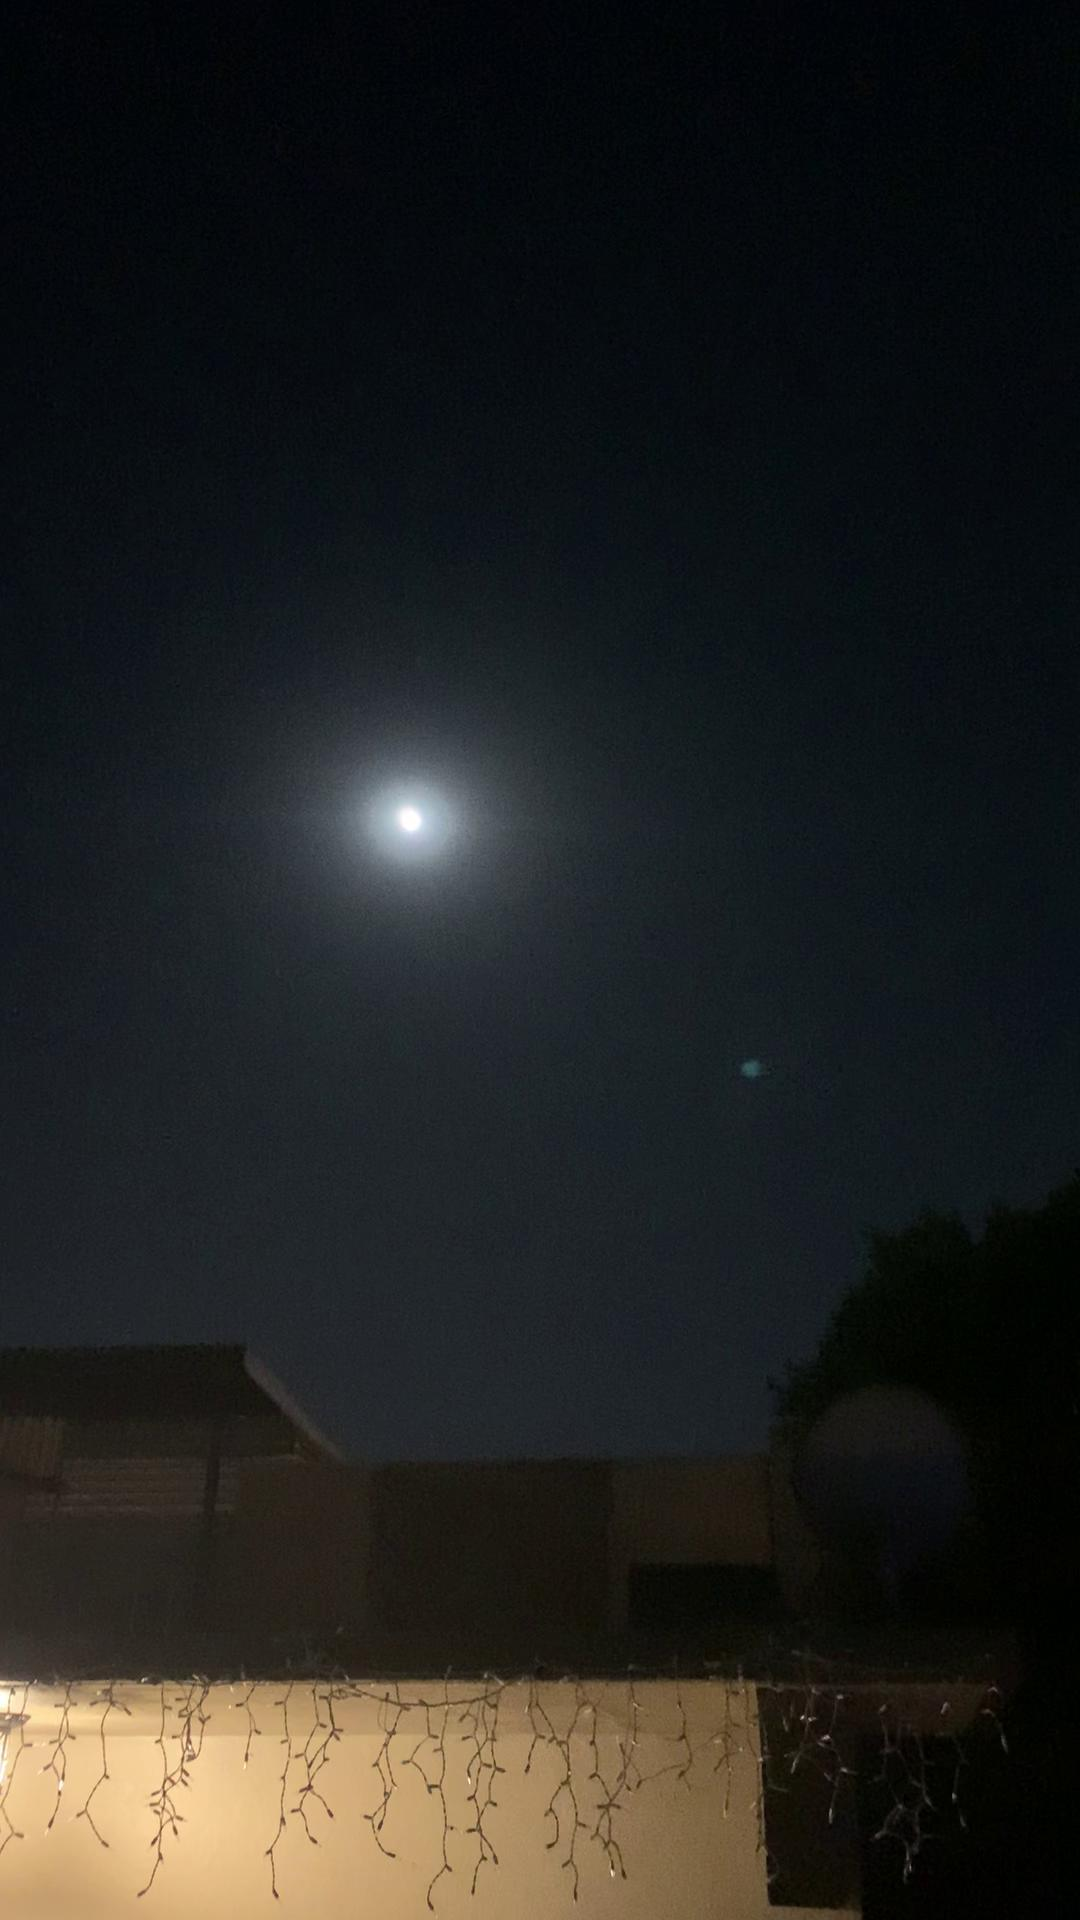moon: (369, 785, 456, 862)
